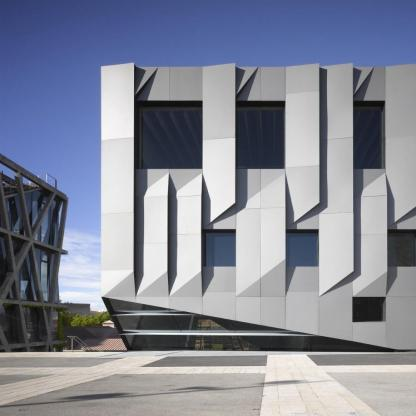Building Outline: (100, 62, 416, 353)
Facade: (100, 62, 416, 352)
Window: (125, 335, 393, 352), (141, 109, 201, 168), (116, 316, 306, 334), (237, 109, 285, 168), (354, 109, 382, 168), (108, 298, 193, 314), (287, 233, 318, 266), (205, 233, 236, 266), (388, 233, 415, 266), (354, 298, 383, 322)
